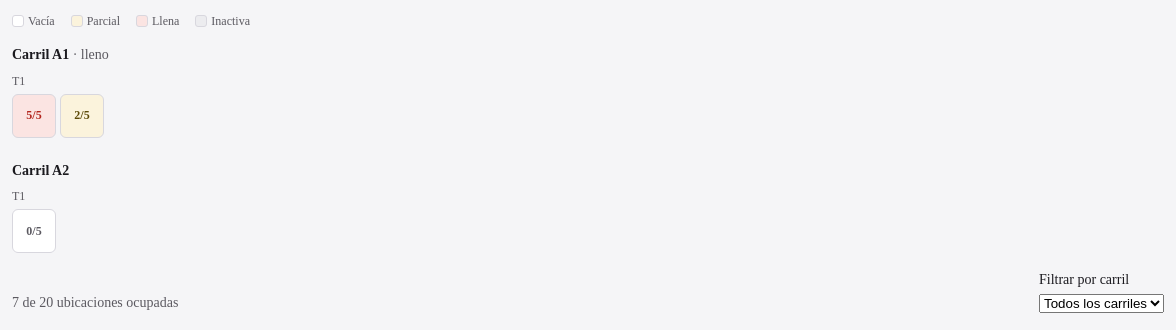
Test: MapaPatio › filtra a un solo carril
The width and height of the screenshot is (1176, 330).
Step 1. Select "A2" in the dropdown labelled "Filtrar por carril" → (1102, 304), box [1039, 294, 1164, 313]
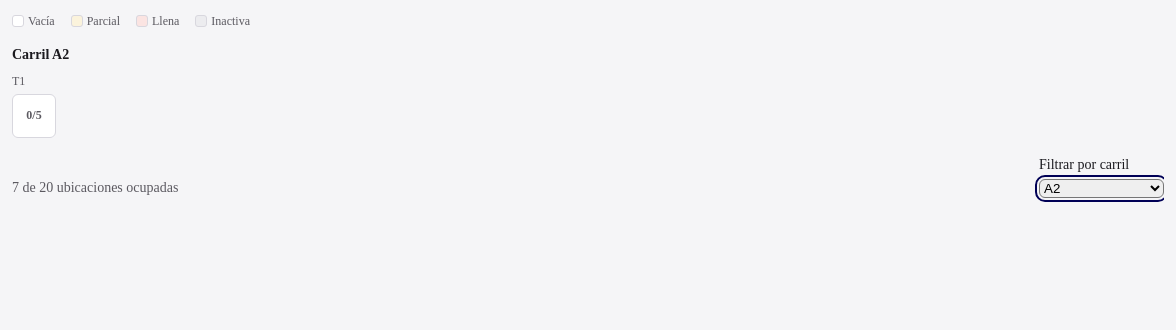
Expected: the element "Carril A2 T1 0/5" is shown, [12, 47, 69, 138]
Expected: the heading "Carril A1" is gone
